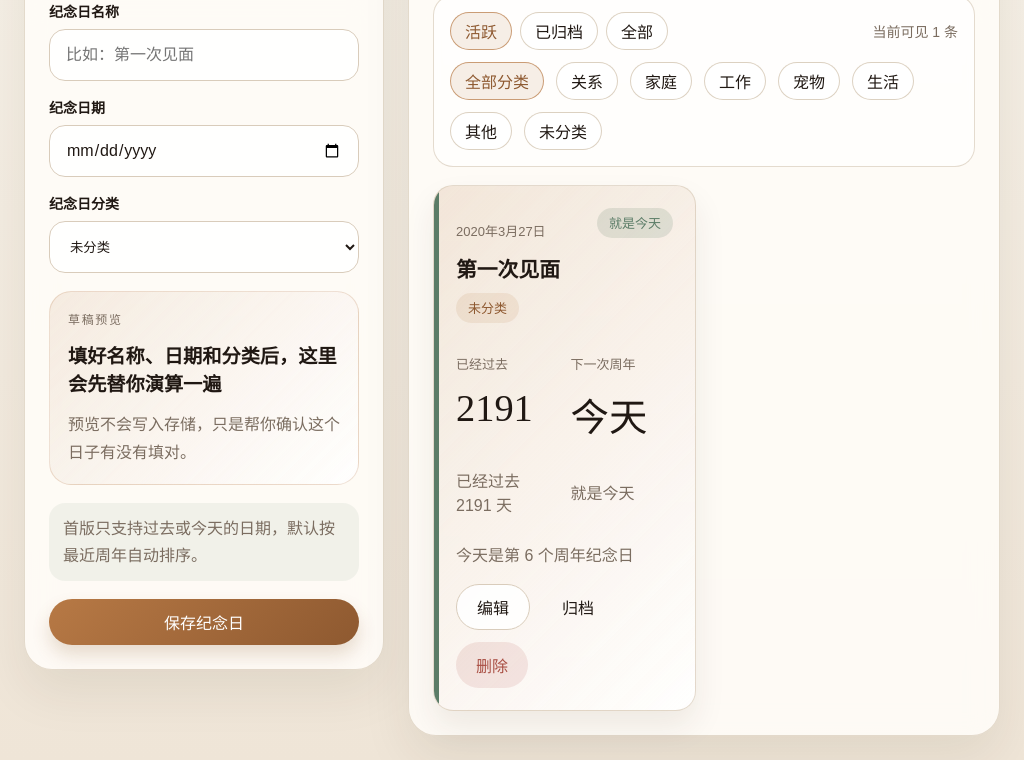
Test: AnniversaryForm › 编辑态会回填旧值、预览同步变化并提交更新
(page scrolled)
Click the button "编辑": point(493, 607) top-left (456, 584), bottom-right (530, 630)
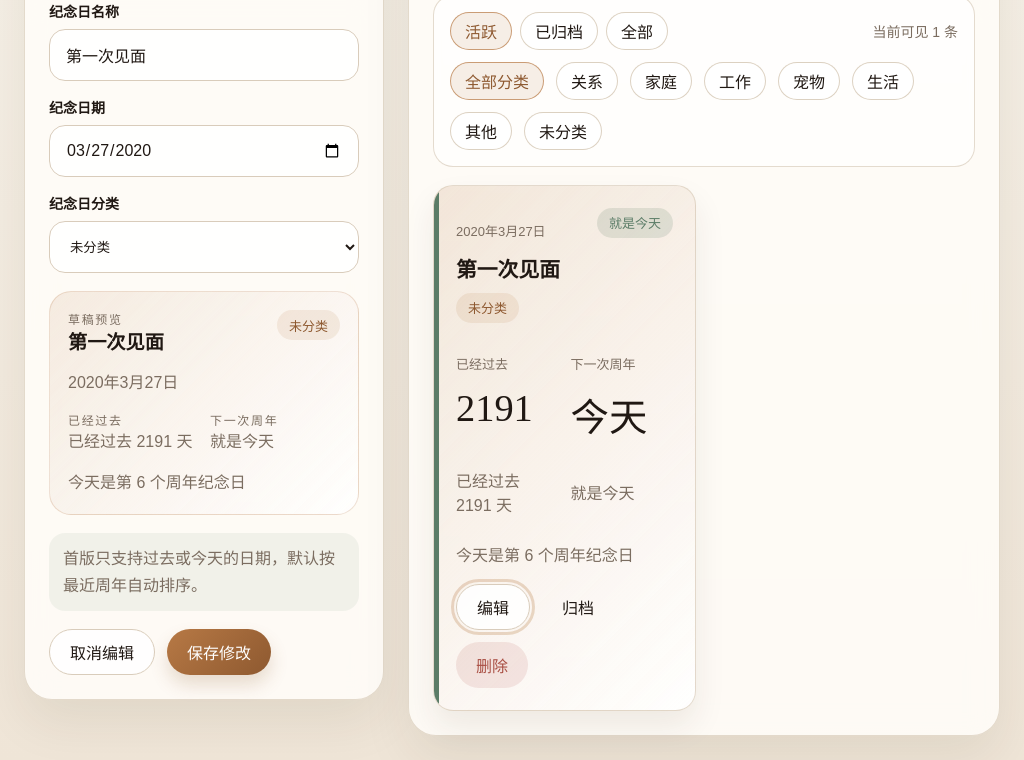
Replace the text in the field labelled "纪念日名称" with "第一次旅行": point(204, 55) top-left (49, 29), bottom-right (359, 81)
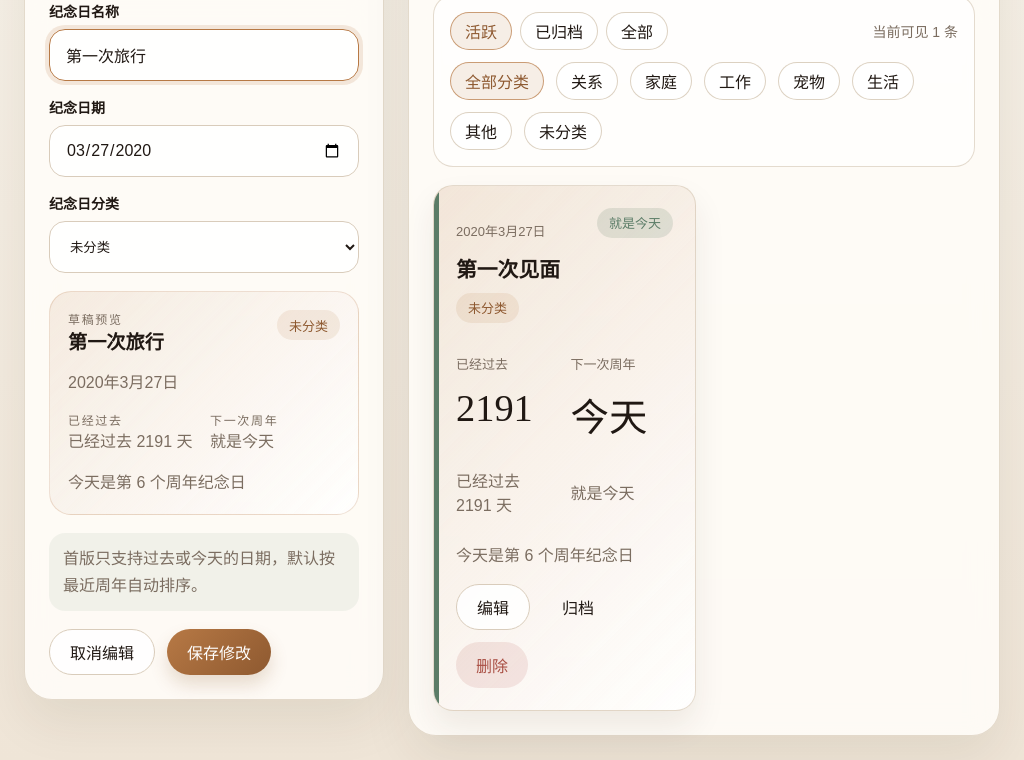
Check: the heading "第一次旅行" is shown, box top-left (68, 327), bottom-right (164, 355)
Click the button "保存修改": point(219, 652) top-left (167, 629), bottom-right (271, 675)
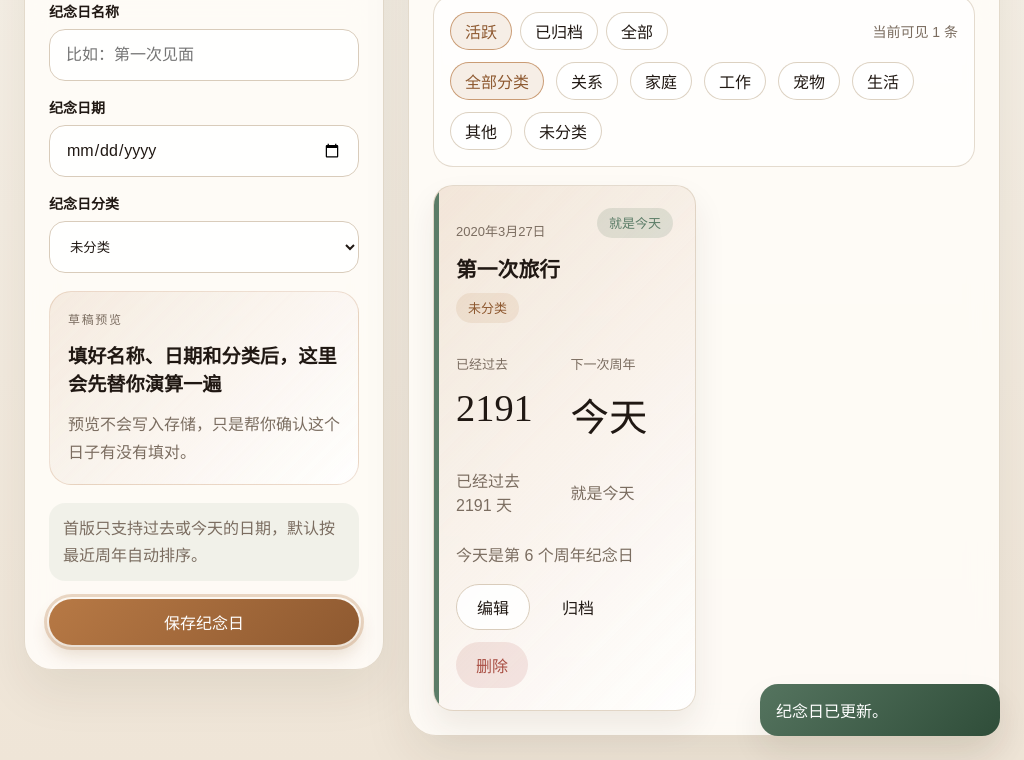
Check: the heading "第一次旅行" is shown, box top-left (456, 253), bottom-right (560, 283)
Check: the text "纪念日已更新。" is shown, box top-left (760, 684), bottom-right (1000, 736)
